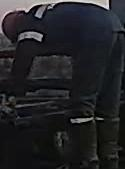helmet: (1, 9, 25, 43)
vest: (17, 4, 125, 59)
